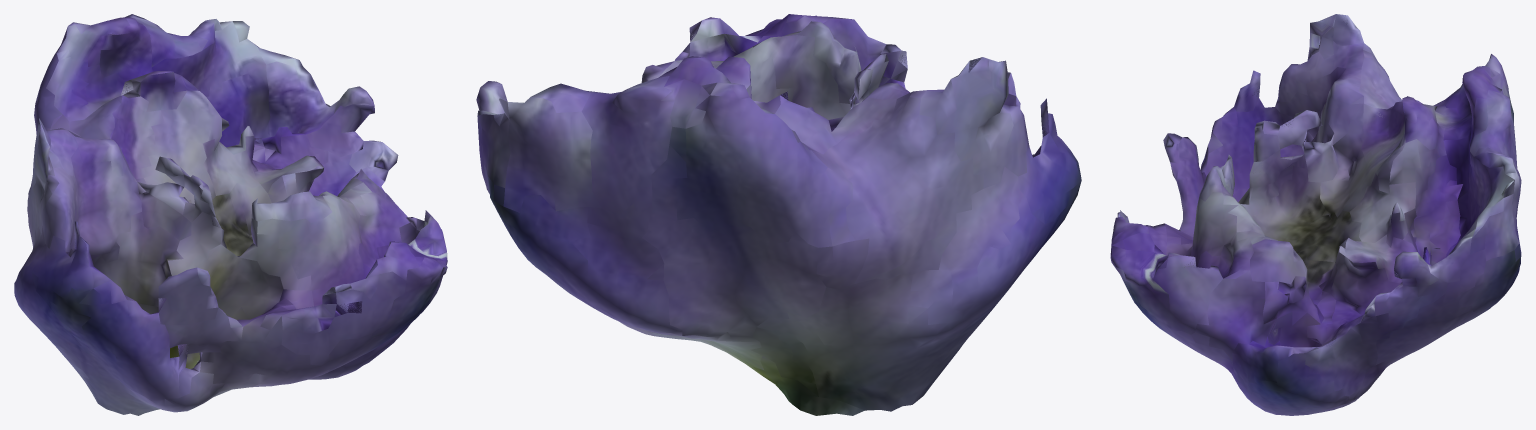
3 views of the same model, side by side, from view 1: azimuth 30°, elevation 25°; view 2: azimuth 150°, elevation 25°; view 3: azimuth 270°, elevation 25° (orthographic). The views are drawn at different scales.
Visible parts, largest first — view 1: 1a562cf1; view 2: 1a562cf1; view 3: 1a562cf1.
Part boxes in pixels (box(x1,y1,x2,y2)): 1a562cf1: box(14, 14, 447, 415); 1a562cf1: box(476, 14, 1081, 415); 1a562cf1: box(1110, 14, 1521, 415).
Bounding box in the file's own units: 0.0757 × 0.0564 × 0.0714.
1 material, 1 textured.
